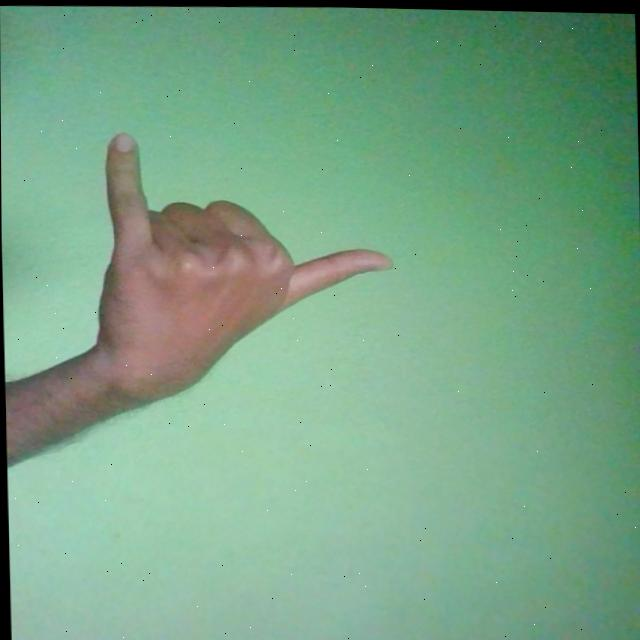Call Me: (86, 126, 393, 415)
